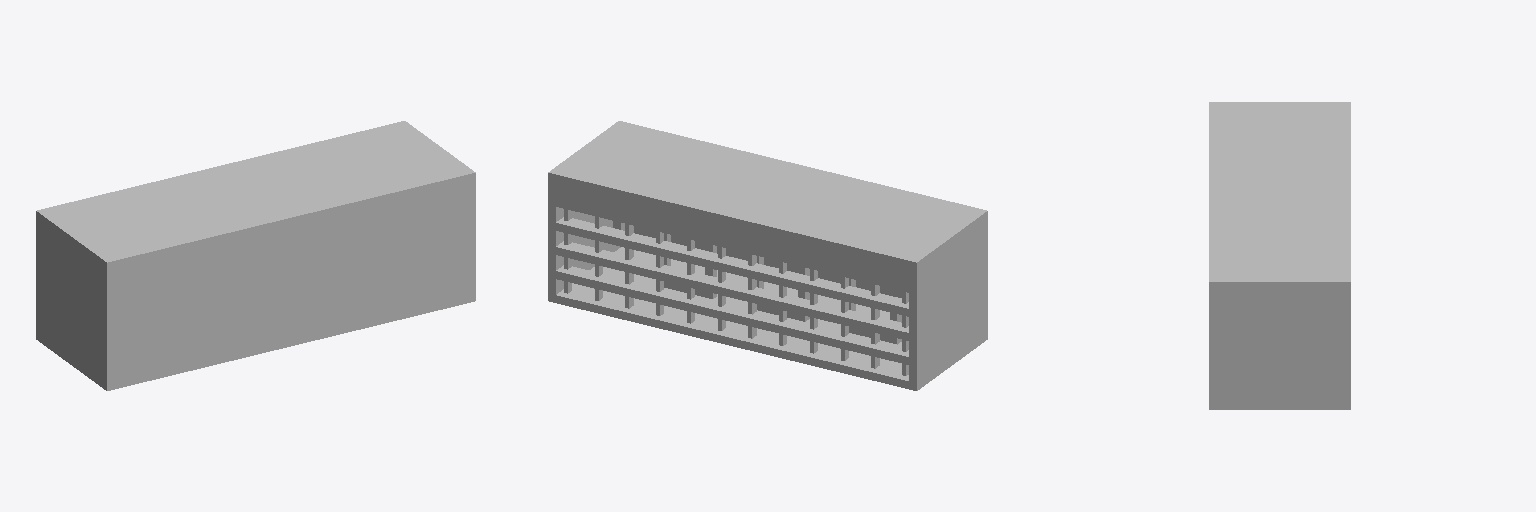
The model's file is electric_heater.obj.
3 views of the same model, side by side, from view 1: azimuth 30°, elevation 25°; view 2: azimuth 150°, elevation 25°; view 3: azimuth 270°, elevation 25° (orthographic).
Parts seen in each view (by area): view 1: cube, side_up; view 2: cube, side_up; view 3: cube, side_up.
Part boxes in pixels (left/top/right/bottom): cube: left=36, top=121, right=475, bottom=390; side_up: left=45, top=123, right=404, bottom=214; cube: left=548, top=121, right=987, bottom=390; side_up: left=556, top=168, right=917, bottom=292; cube: left=1209, top=102, right=1350, bottom=409; side_up: left=1333, top=105, right=1350, bottom=277.
Size of the model in its own units: 3 by 1 by 1.